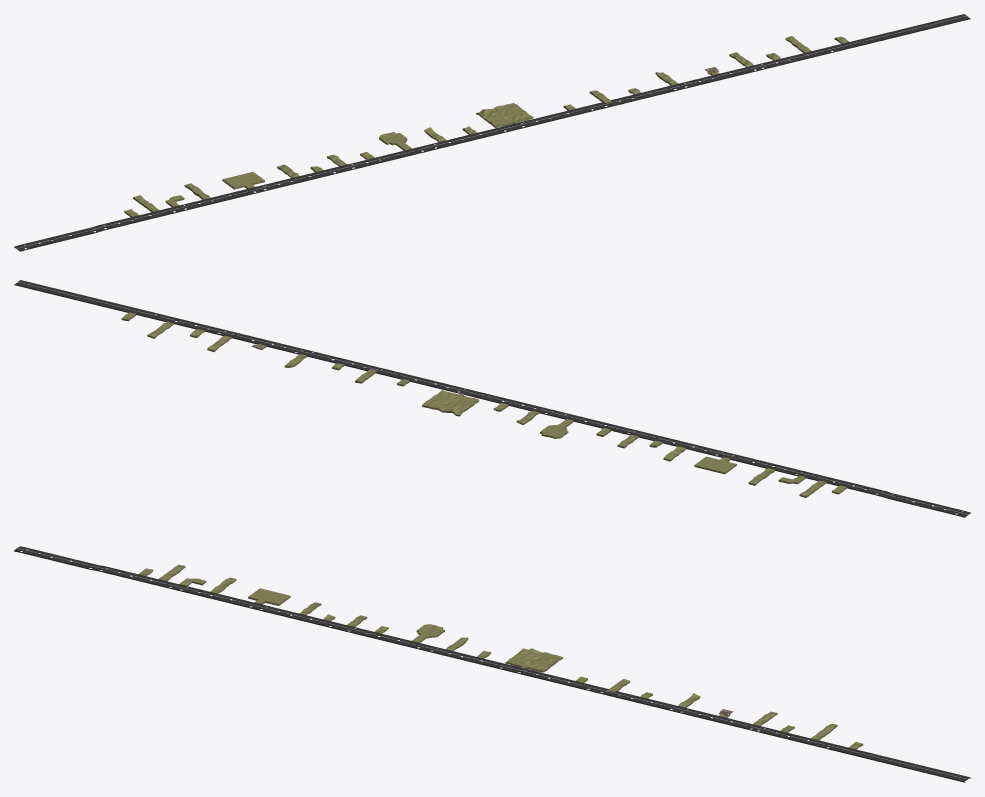
File: 4_City_조용한거리_큐브전체.fbx
3 renders of one model, top to bottom at view 1: azimuth 30°, elevation 25°; view 2: azimuth 150°, elevation 25°; view 3: azimuth 330°, elevation 25°, orthographic.
Visible parts, largest first — view 1: 1_도시_바닥_Cube, 1_도시_바닥_길_Cube.012; view 2: 1_도시_바닥_Cube, 1_도시_바닥_길_Cube.012; view 3: 1_도시_바닥_Cube, 1_도시_바닥_길_Cube.012.
Boxes of the visible parts, x1=… form: 1_도시_바닥_Cube: x1=14, y1=14, x2=970, y2=251; 1_도시_바닥_길_Cube.012: x1=476, y1=103, x2=533, y2=127; 1_도시_바닥_Cube: x1=14, y1=280, x2=970, y2=517; 1_도시_바닥_길_Cube.012: x1=422, y1=390, x2=479, y2=416; 1_도시_바닥_Cube: x1=14, y1=546, x2=970, y2=782; 1_도시_바닥_길_Cube.012: x1=505, y1=648, x2=562, y2=672.
Size of the model in its own units: 10714 by 211078 by 1202.
